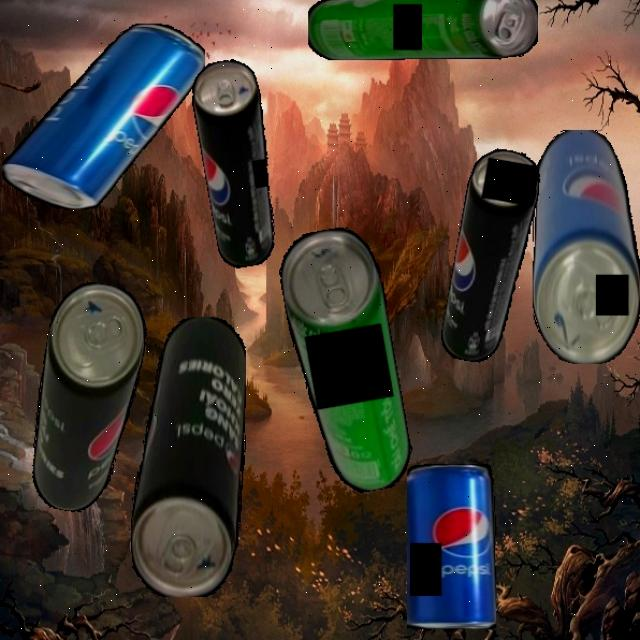debris: (274, 222, 418, 500), (1, 23, 205, 210), (130, 316, 246, 597), (20, 277, 154, 519), (531, 129, 640, 364), (438, 145, 545, 367), (187, 56, 289, 270), (406, 464, 496, 629), (307, 0, 538, 60)
